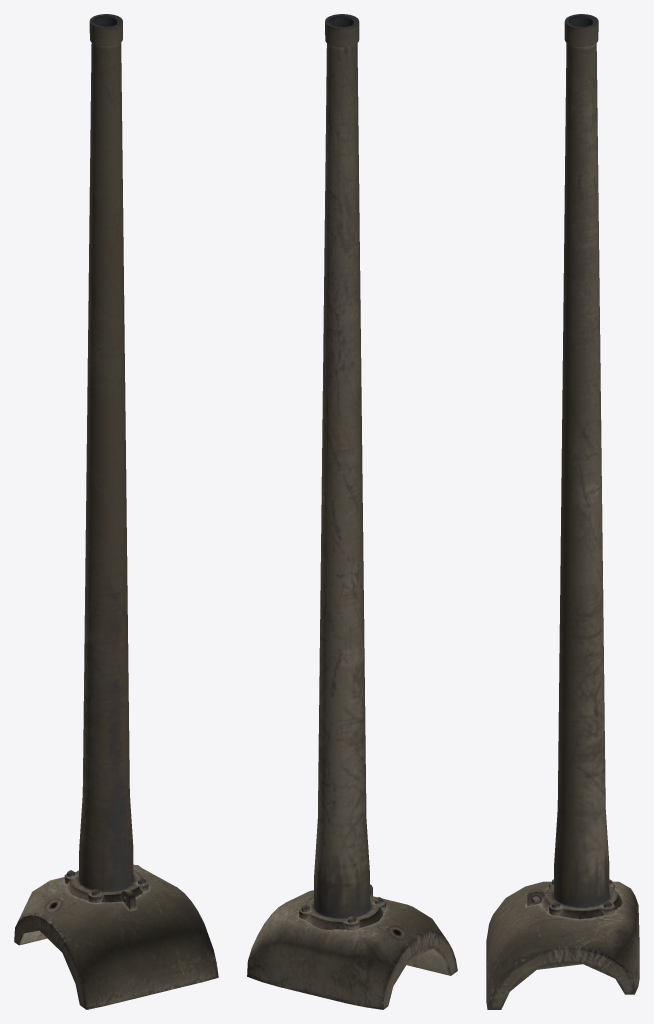
The model's file is Gun_02.glb.
The picture shows the model from 3 angles, left to right: view 1: azimuth 30°, elevation 25°; view 2: azimuth 150°, elevation 25°; view 3: azimuth 270°, elevation 25°; orthographic projection. The views are drawn at different scales.
Visible parts, largest first — view 1: set_0_group_0; view 2: set_0_group_0; view 3: set_0_group_0.
Boxes of the visible parts, x1,y1,x2,y2 form: set_0_group_0: [14, 14, 218, 1009]; set_0_group_0: [247, 14, 457, 1009]; set_0_group_0: [486, 14, 639, 1009].
Size of the model in its own units: 0.6606 by 4.48 by 0.6522.
1 material, 1 textured.
